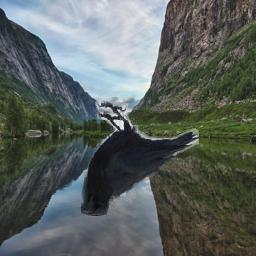Crow: (81, 100, 199, 216)
